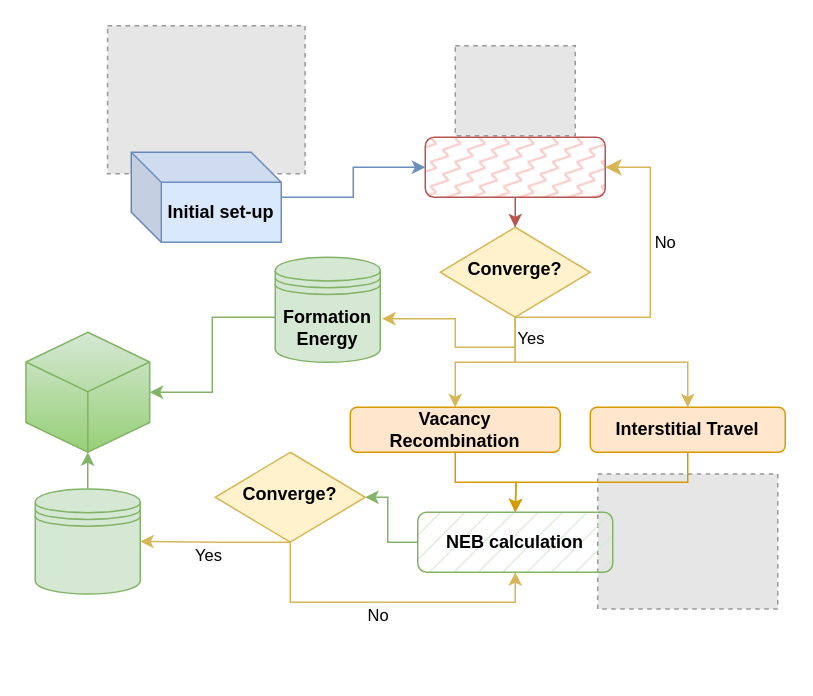
Image size: 813x696. Some labels were removed from this diagram. Grey dashed boxes stand in for pictures. Here are the shapes that lost their labels. From the top down, the centre of each, then its label:
At [514,166]: "Defect Formation".
At [87,391]: "Activation Energy".
At [87,541]: "Migration Energy".
